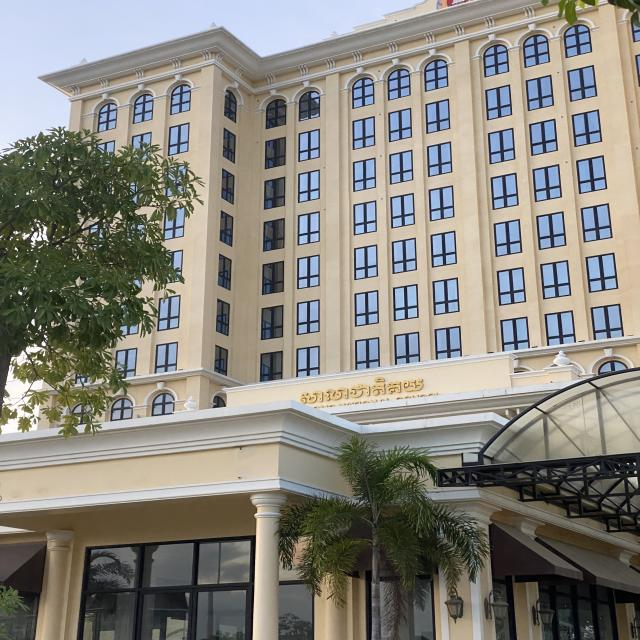Yolov11_80vkh: (292, 369, 427, 407)
